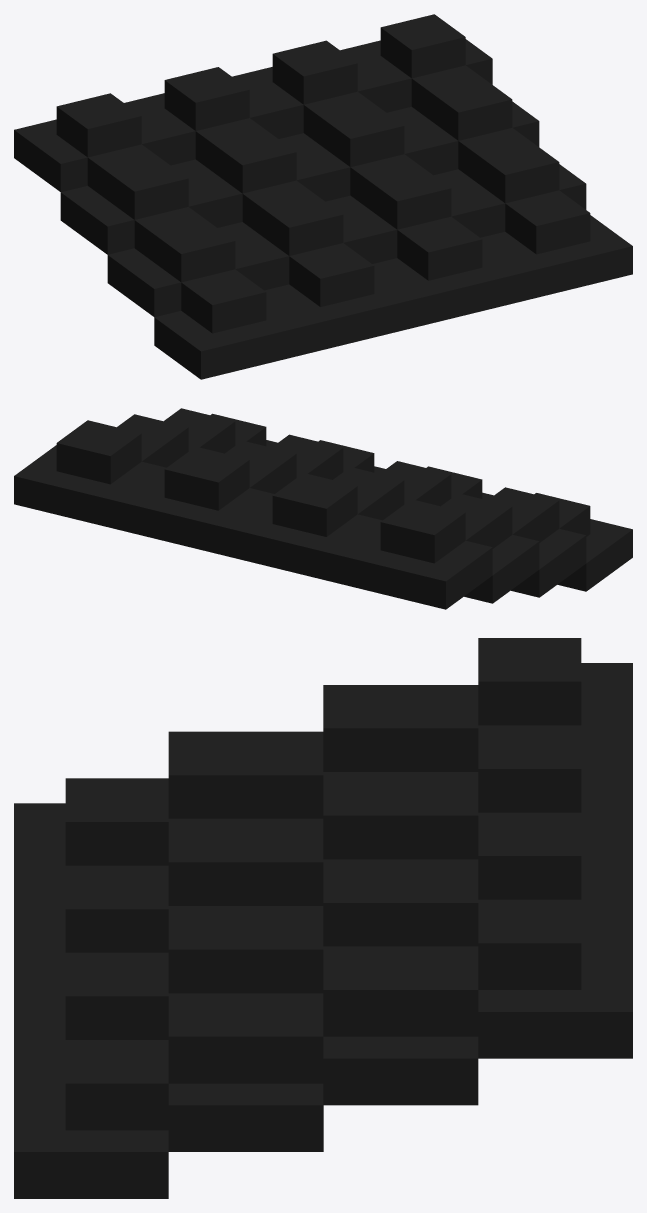
The model's file is Dumpster0Lid.obj.
3 views of the same model, one above another, from view 1: azimuth 30°, elevation 25°; view 2: azimuth 150°, elevation 25°; view 3: azimuth 270°, elevation 25° (orthographic). The views are drawn at different scales.
Bounding box in the file's own units: 1.6 × 0.5 × 1.2.
Materials: 1 (1 with a texture image).
